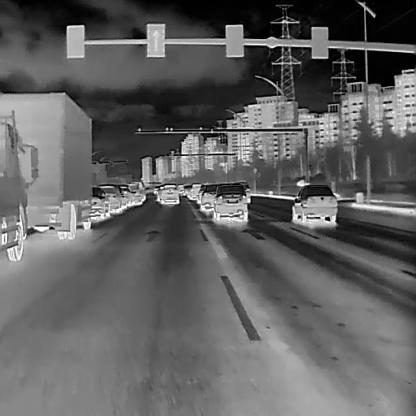car: (0, 91, 92, 239), (0, 114, 39, 262), (291, 182, 337, 224), (213, 182, 247, 221), (96, 182, 122, 213), (90, 185, 110, 220), (200, 184, 219, 211), (118, 184, 133, 207), (162, 183, 179, 203), (126, 182, 142, 203), (188, 183, 203, 199), (155, 185, 163, 201), (177, 183, 183, 193)
